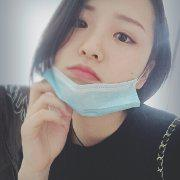WRONG: (48, 7, 156, 111)
